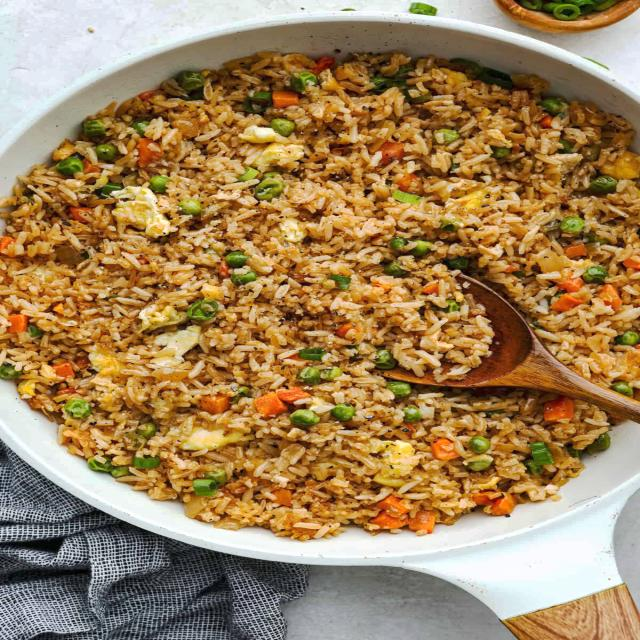Fried Rice: (8, 54, 640, 536), (386, 278, 498, 380)
